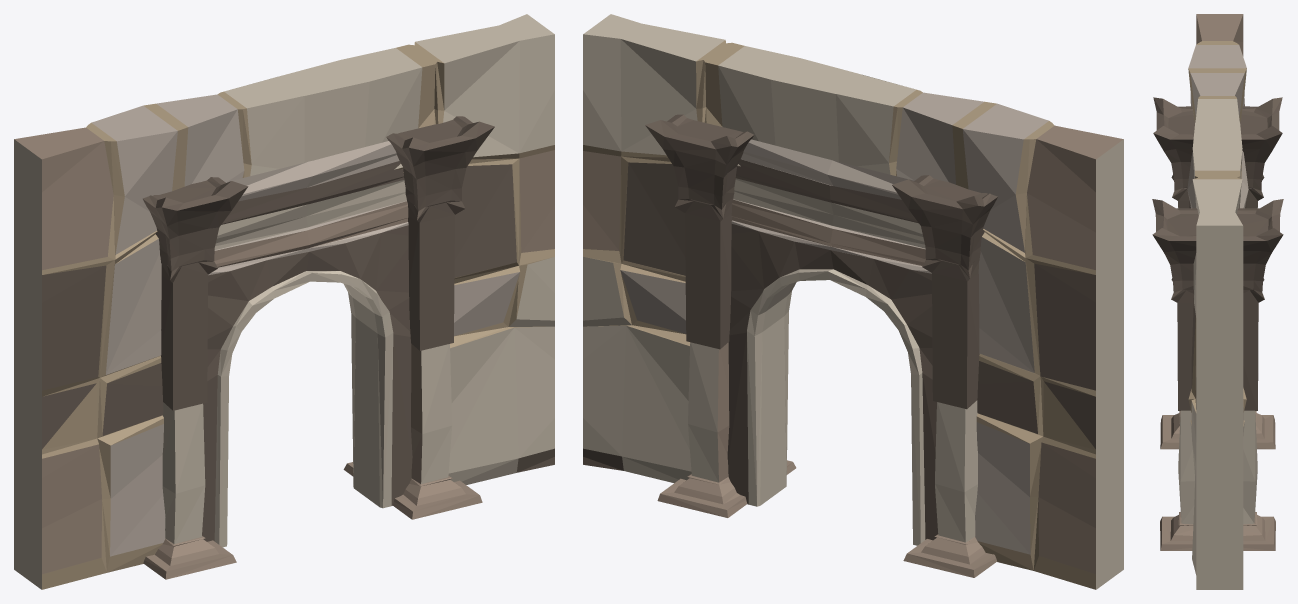
The model's file is RG-Dungeon_Entrance-01.fbx.
3 views of the same model, side by side, from view 1: azimuth 30°, elevation 25°; view 2: azimuth 150°, elevation 25°; view 3: azimuth 270°, elevation 25° (orthographic). The views are drawn at different scales.
Parts seen in each view (by area): view 1: RG-Dungeon_Entrance-01; view 2: RG-Dungeon_Entrance-01; view 3: RG-Dungeon_Entrance-01.
Boxes of the visible parts, x1,y1,x2,y2 form: RG-Dungeon_Entrance-01: (14,14,554,589); RG-Dungeon_Entrance-01: (583,14,1123,589); RG-Dungeon_Entrance-01: (1152,14,1283,589).
Size of the model in its own units: 20.02 by 16.05 by 5.25.
